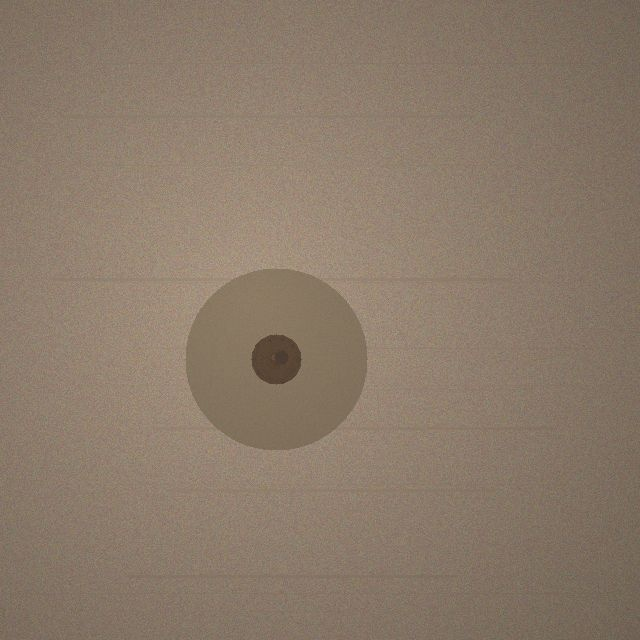cold_weld: (185, 268, 367, 450)
